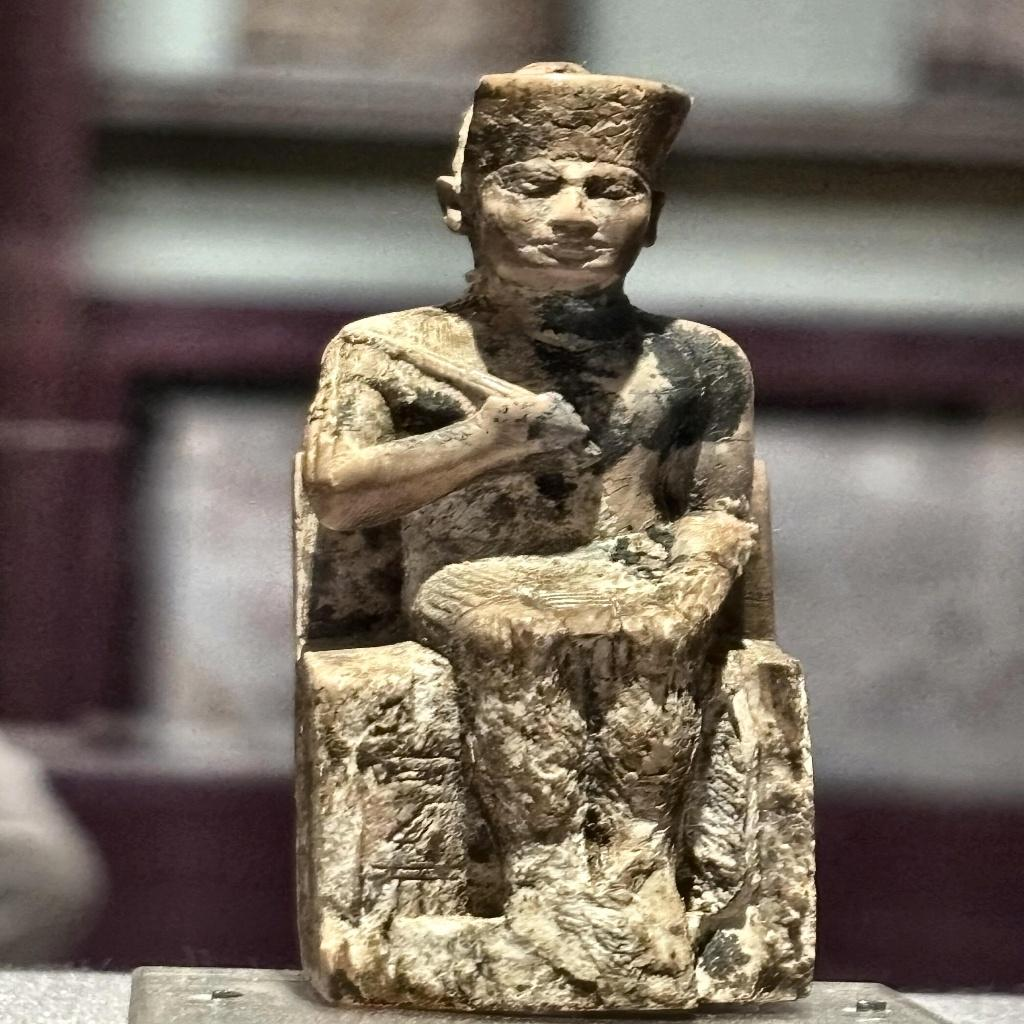Statue of Khufu: (298, 60, 823, 1006)
